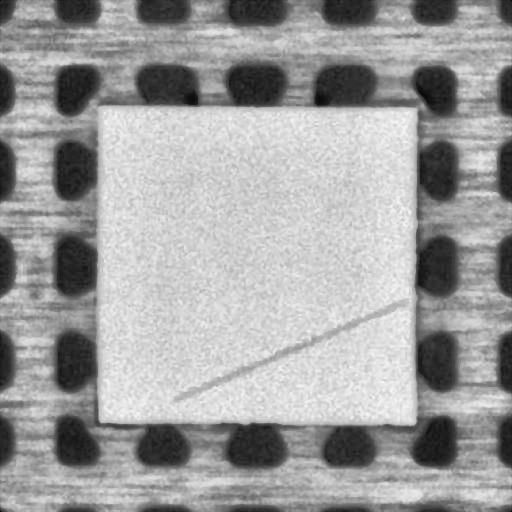DIE_CRACK: (176, 302, 402, 398)
